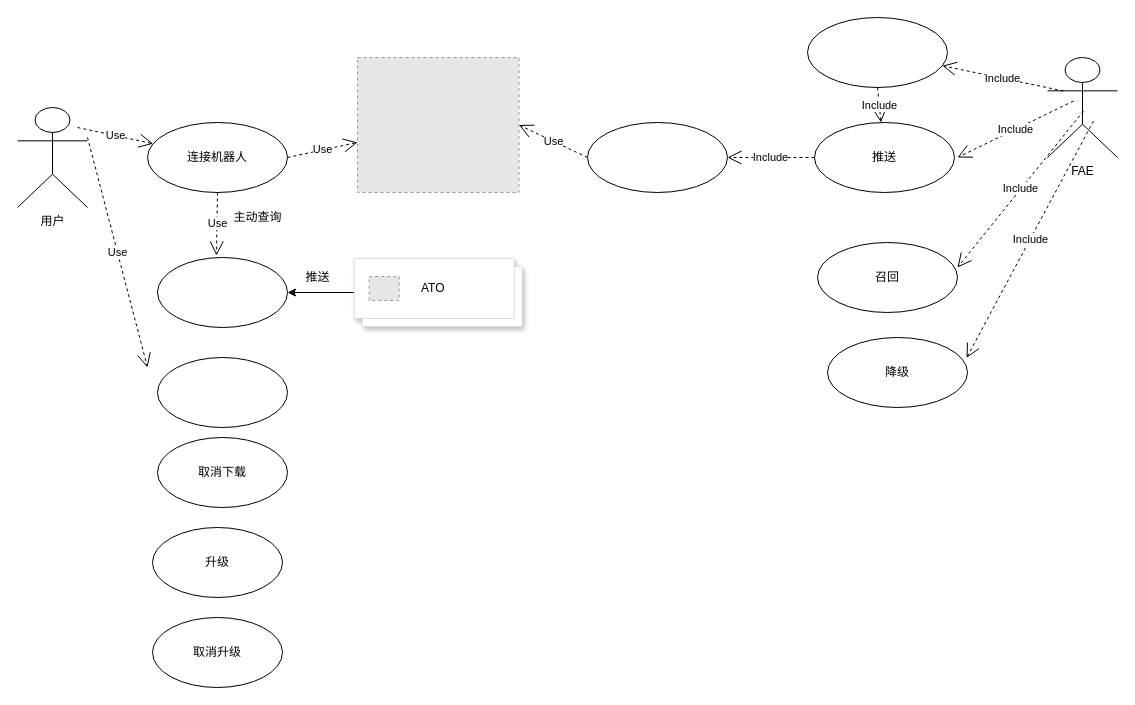
This 1135x705 diagram has some shape labels left out. Grey dashed boxes stand in for pictures. The centre of each missing label's shape, as x and y in pixels:
"下载" belongs at pixel 222 392.
"创建升级包" belongs at pixel 877 52.
"可用版本" belongs at pixel 222 292.
"选择机器人" belongs at pixel 657 157.
